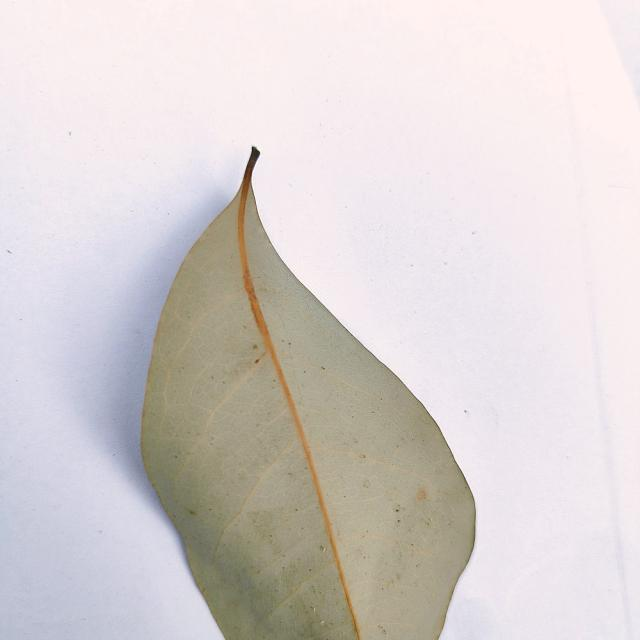Dry_Leaf-Lychee: (140, 152, 477, 639)
